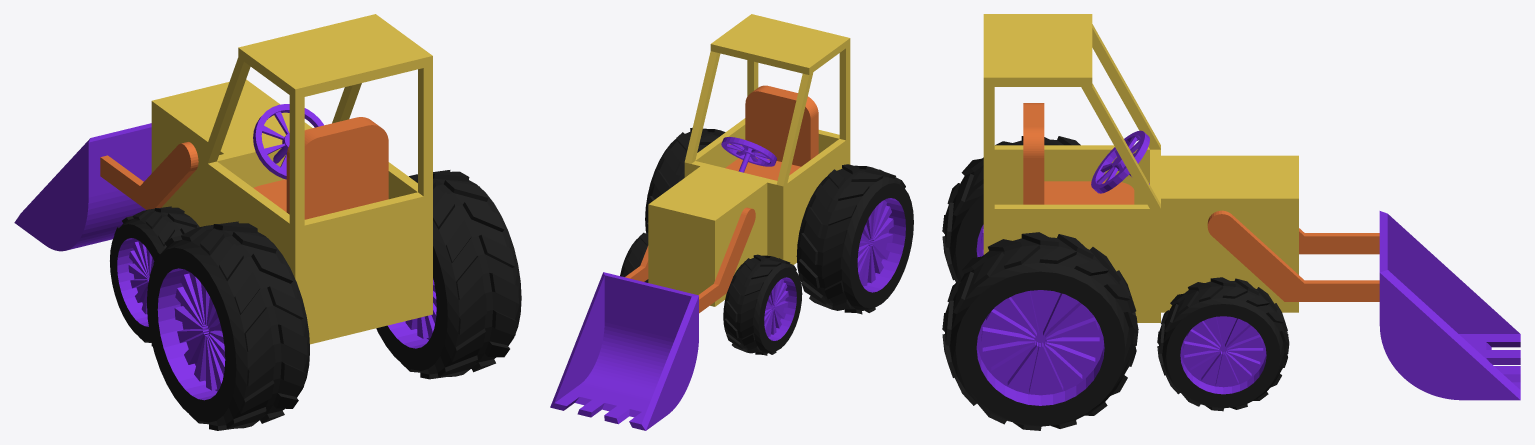
The model's file is Sand Truck.fbx.
3 views of the same model, side by side, from view 1: azimuth 30°, elevation 25°; view 2: azimuth 150°, elevation 25°; view 3: azimuth 270°, elevation 25° (orthographic). The views are drawn at different scales.
Parts seen in each view (by area): view 1: Cube.007, Cylinder.013, Cylinder.015, Cube, Cube.008, Cylinder.012, Cylinder.010, Cylinder.016; view 2: Cube.007, Cube, Cylinder.013, Cylinder.012, Cube.008, Cylinder.015, Cylinder.010, Cylinder.016, Cylinder.014, Cylinder.011; view 3: Cube.007, Cylinder.015, Cube, Cylinder.014, Cylinder.011, Cube.008, Cylinder.013, Cylinder.010, Cylinder.016.
Boxes of the visible parts, bbox=[...] form: Cube.007: bbox=[151, 14, 432, 344]; Cylinder.013: bbox=[147, 221, 309, 430]; Cylinder.015: bbox=[376, 170, 521, 379]; Cube: bbox=[14, 123, 151, 251]; Cube.008: bbox=[253, 117, 388, 219]; Cylinder.012: bbox=[110, 206, 199, 346]; Cylinder.010: bbox=[100, 142, 198, 209]; Cylinder.016: bbox=[253, 104, 323, 179]; Cube.007: bbox=[648, 14, 850, 306]; Cube: bbox=[550, 272, 698, 430]; Cylinder.013: bbox=[796, 164, 913, 314]; Cylinder.012: bbox=[723, 254, 802, 355]; Cube.008: bbox=[725, 85, 818, 180]; Cylinder.015: bbox=[645, 128, 725, 232]; Cylinder.010: bbox=[698, 207, 755, 313]; Cylinder.016: bbox=[721, 137, 776, 172]; Cylinder.014: bbox=[620, 232, 648, 282]; Cylinder.011: bbox=[625, 246, 648, 281]; Cube.007: bbox=[983, 14, 1298, 322]; Cylinder.015: bbox=[942, 232, 1138, 430]; Cube: bbox=[1379, 211, 1520, 400]; Cylinder.014: bbox=[1157, 277, 1289, 411]; Cylinder.011: bbox=[1207, 210, 1379, 301]; Cube.008: bbox=[1023, 103, 1134, 204]; Cylinder.013: bbox=[942, 136, 1080, 282]; Cylinder.010: bbox=[1299, 228, 1379, 254]; Cylinder.016: bbox=[1091, 130, 1149, 193].
Bounding box in the file's own units: 453 × 521 × 839.
